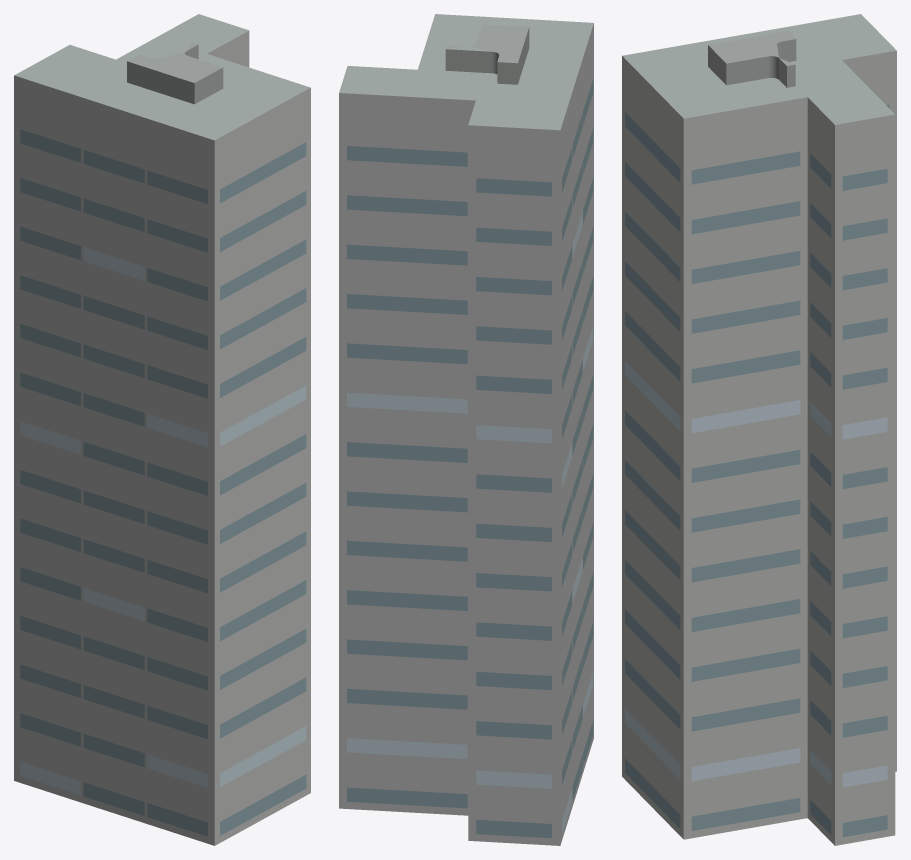
The model's file is fallback-songpa-helio-city-203.glb.
3 views of the same model, side by side, from view 1: azimuth 30°, elevation 25°; view 2: azimuth 150°, elevation 25°; view 3: azimuth 270°, elevation 25° (orthographic). The views are drawn at different scales.
Visible parts, largest first — view 1: fallback-songpa-helio-city-203; view 2: fallback-songpa-helio-city-203; view 3: fallback-songpa-helio-city-203.
Boxes of the visible parts, x1=… form: fallback-songpa-helio-city-203: x1=14, y1=14, x2=310, y2=845; fallback-songpa-helio-city-203: x1=339, y1=14, x2=593, y2=845; fallback-songpa-helio-city-203: x1=622, y1=14, x2=896, y2=845.
Size of the model in its own units: 26.28 by 82 by 27.48.
